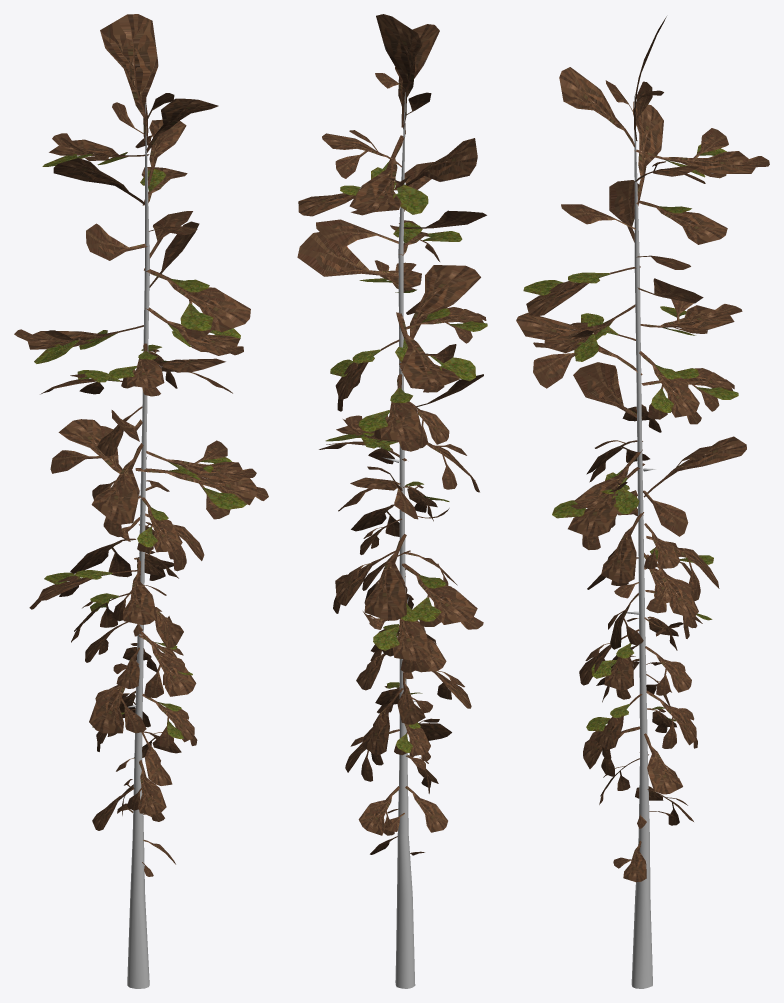
Rendered from tree_narrow_03.obj.
The picture shows the model from 3 angles, left to right: view 1: azimuth 30°, elevation 25°; view 2: azimuth 150°, elevation 25°; view 3: azimuth 270°, elevation 25°; orthographic projection.
Visible parts, largest first — view 1: Tree_Narrow_03; view 2: Tree_Narrow_03; view 3: Tree_Narrow_03.
Part boxes in pixels (x1,y1,x2,y2): Tree_Narrow_03: [14, 14, 268, 988]; Tree_Narrow_03: [297, 14, 487, 988]; Tree_Narrow_03: [516, 16, 769, 988].
Size of the model in its own units: 10.4 by 48.31 by 11.48.
